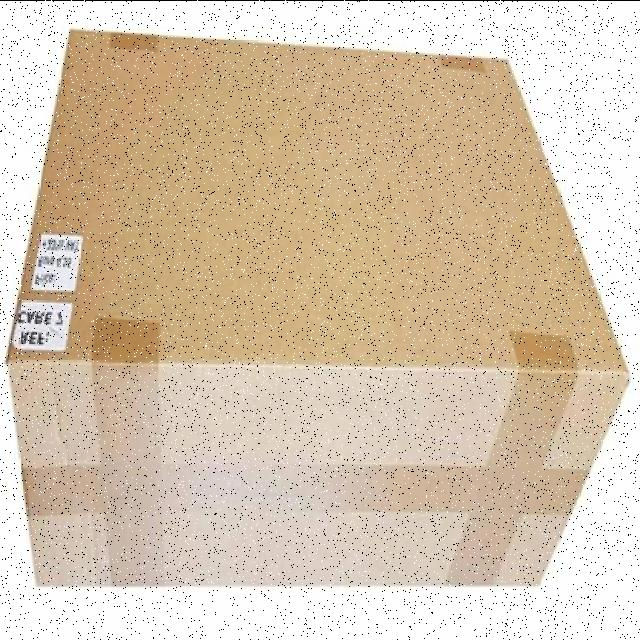normal: (9, 34, 626, 588)
